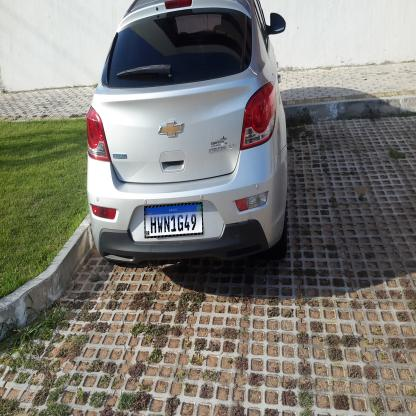PlacaM: (144, 202, 203, 238)
